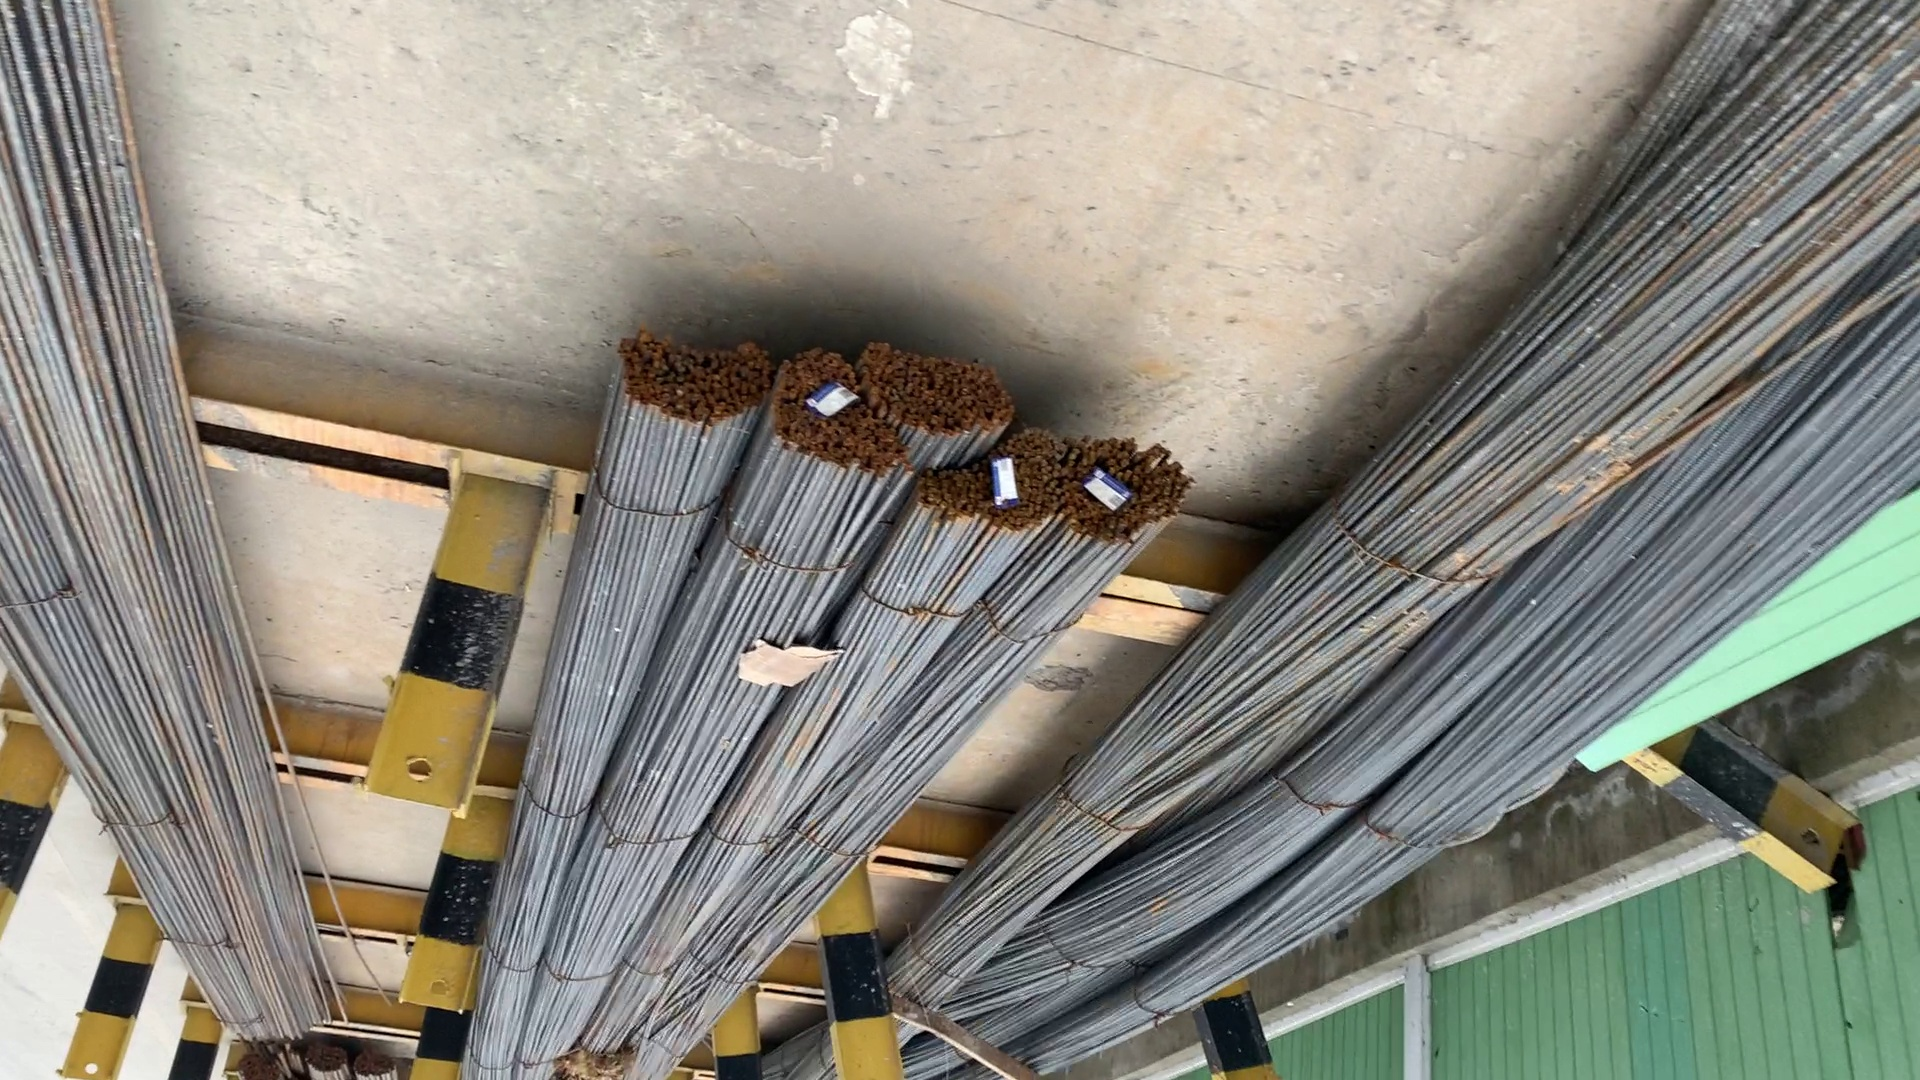rebar: (770, 349, 909, 484), (866, 342, 1015, 443), (612, 330, 769, 425), (928, 436, 1062, 534), (1065, 439, 1196, 538)
